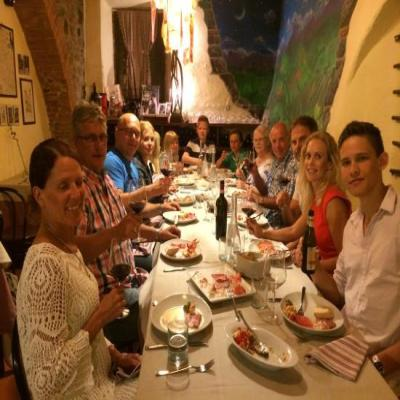happy: (50, 155, 84, 227), (340, 138, 374, 197), (121, 117, 139, 158), (305, 148, 328, 180)
netural: (80, 122, 106, 172), (140, 128, 155, 157), (272, 132, 286, 158), (253, 132, 267, 154)
